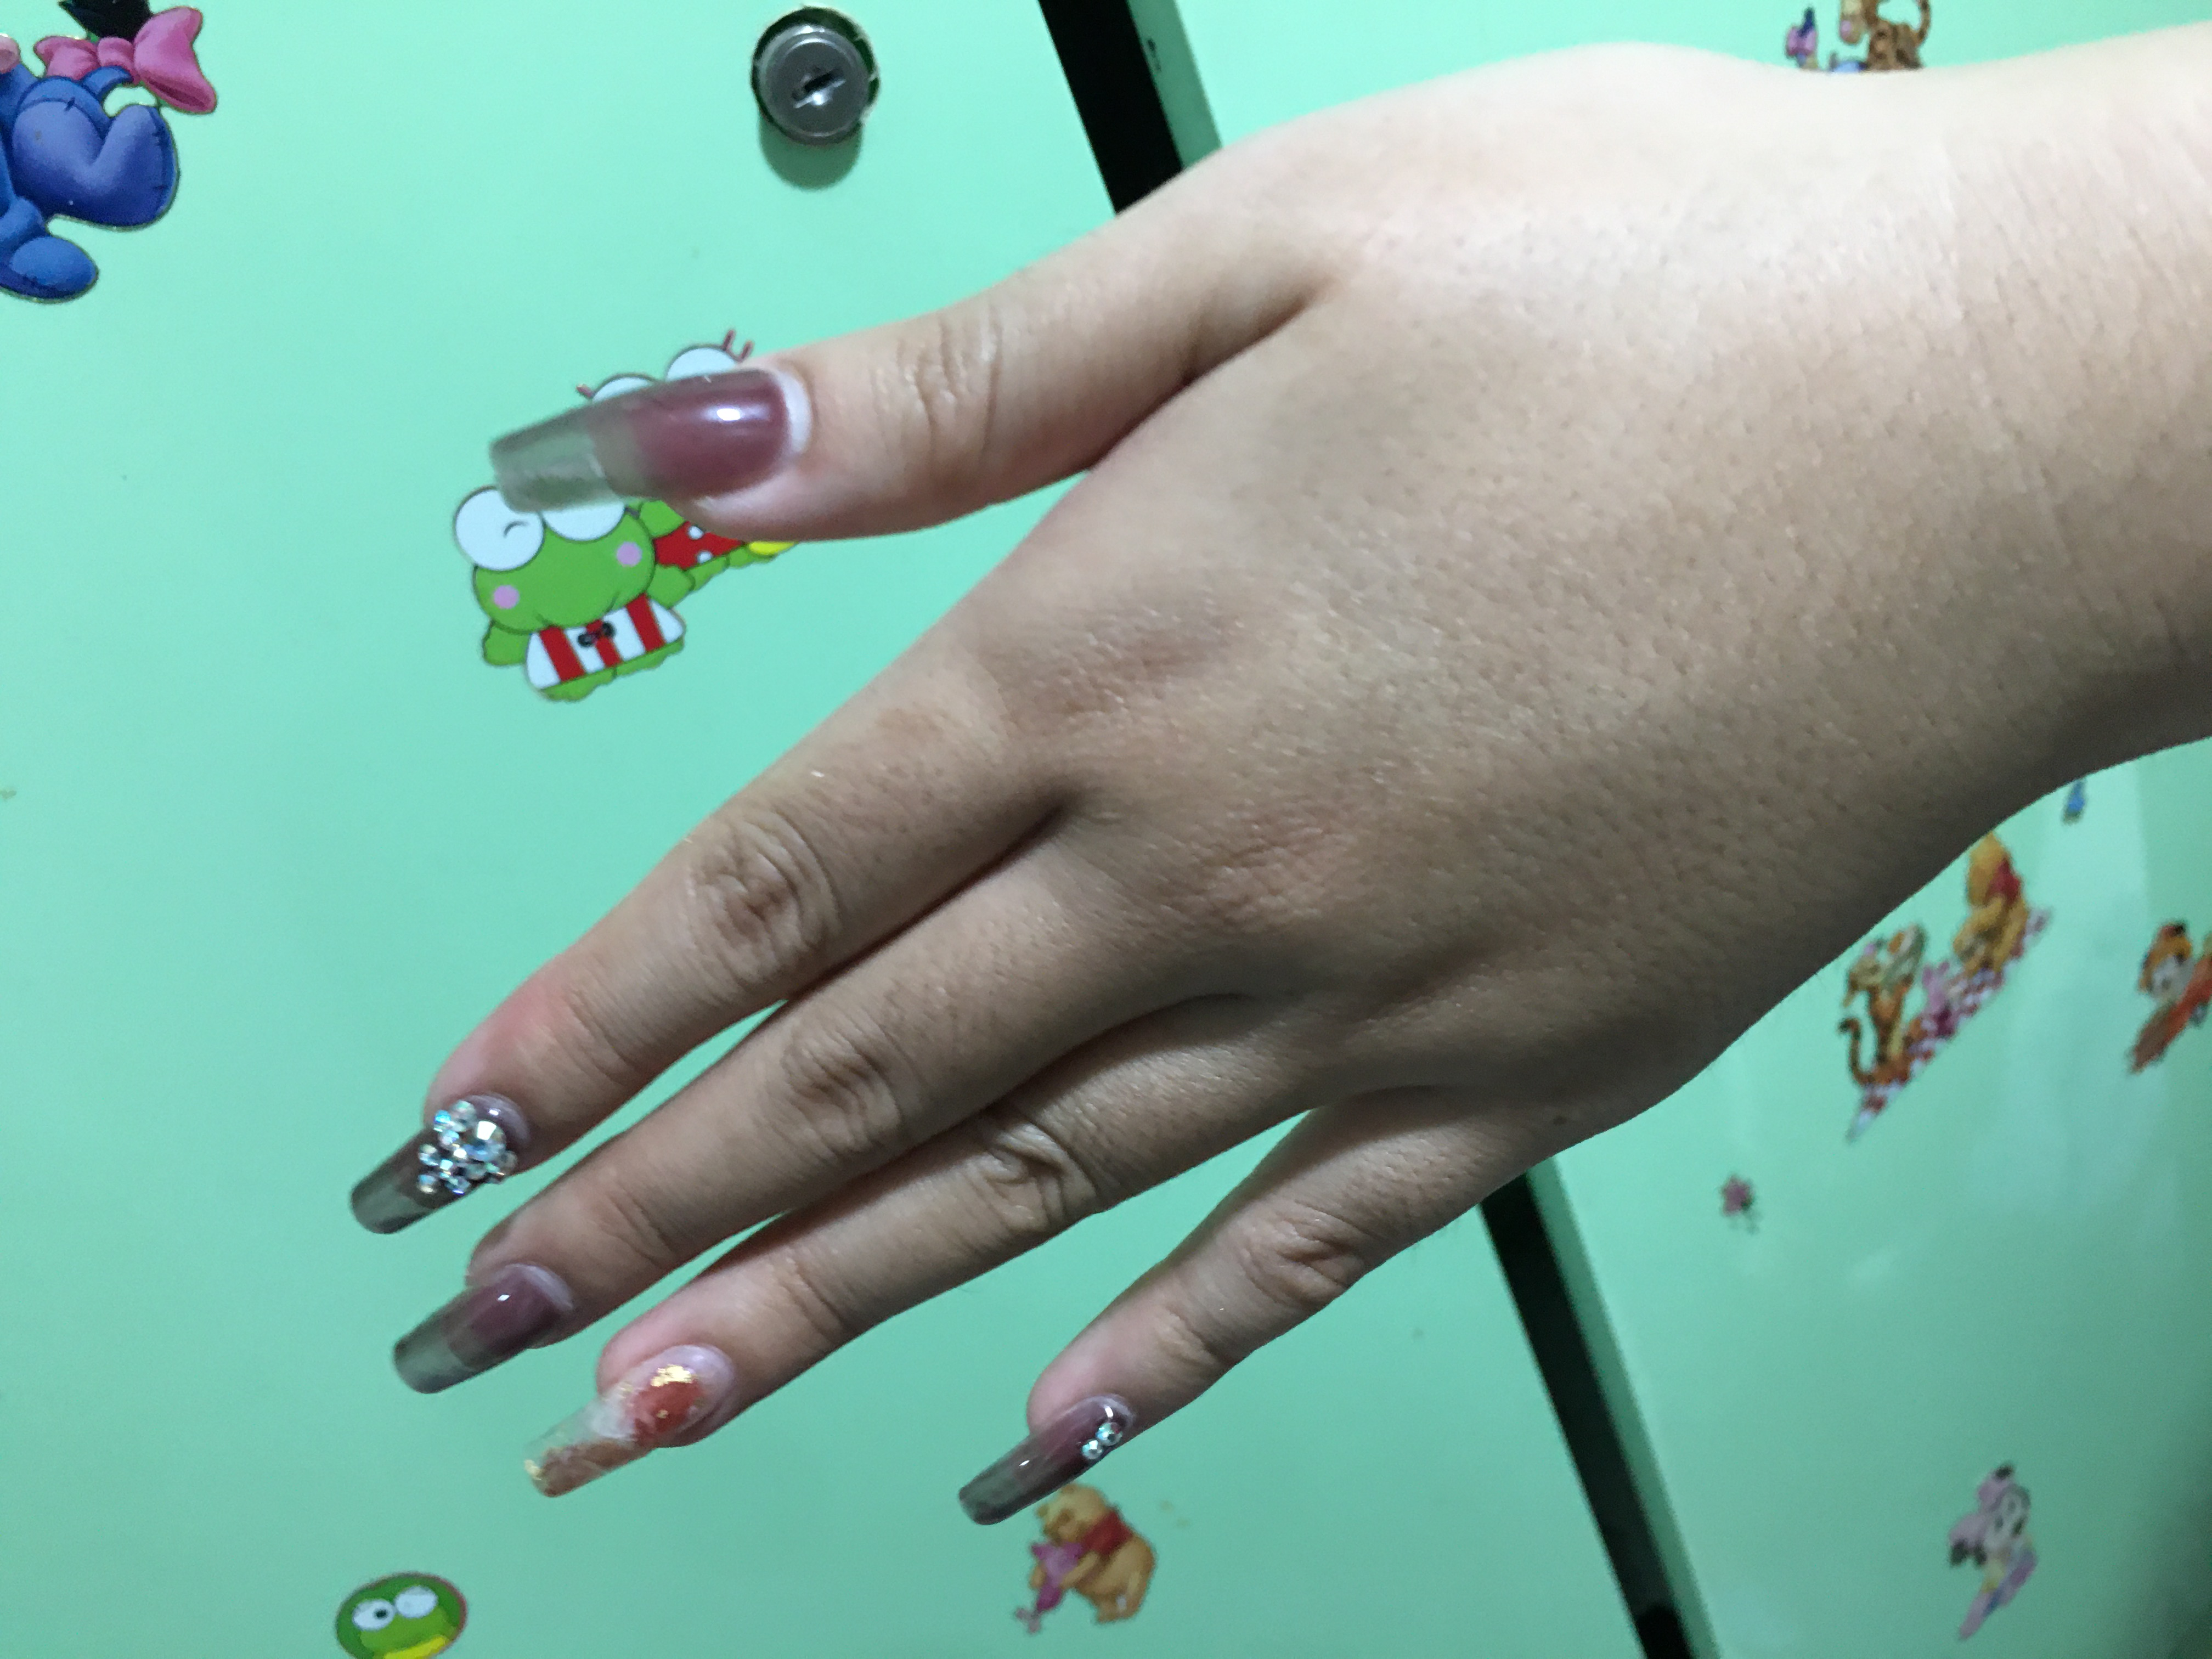nails: (479, 359, 801, 518), (509, 1330, 752, 1500), (341, 1089, 533, 1239), (381, 1258, 573, 1408), (951, 1382, 1143, 1532)
